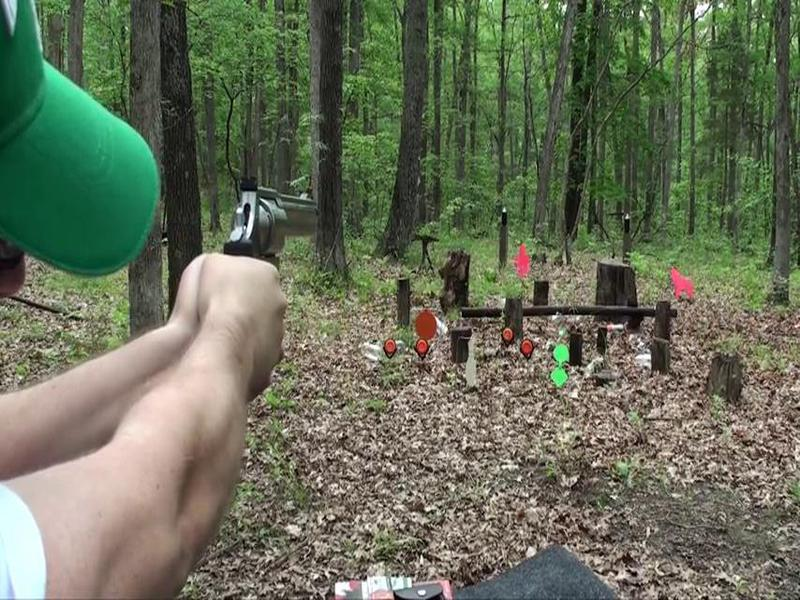Revolver: (187, 163, 328, 301)
